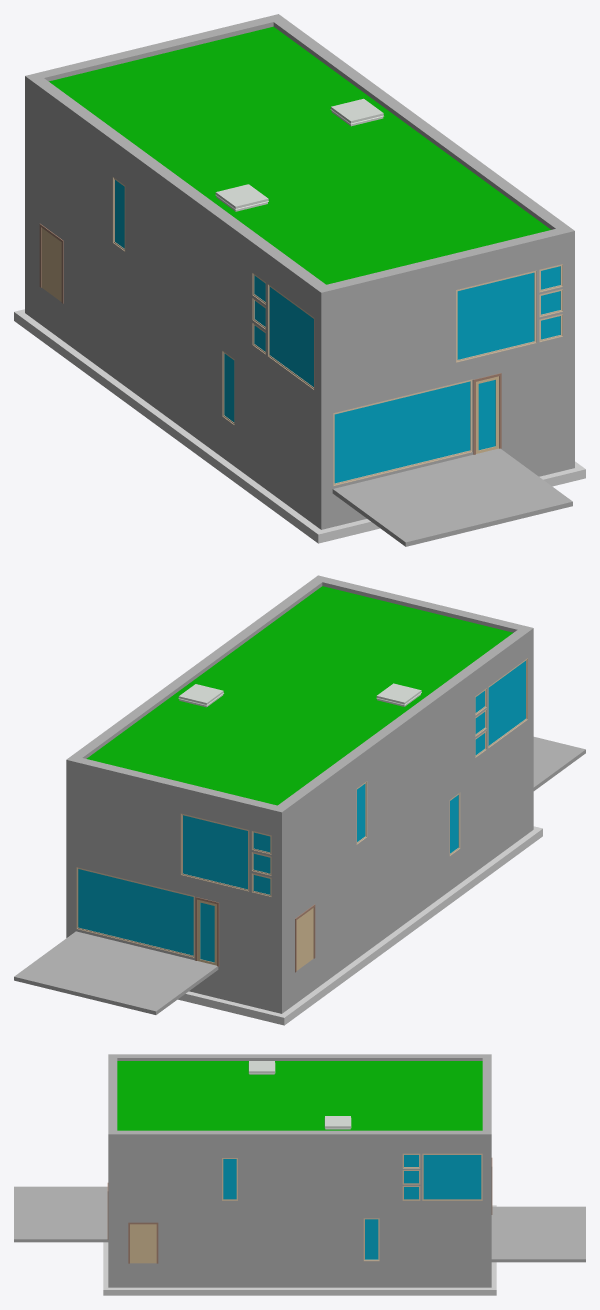
The model's file is duplex.gltf.
3 renders of one model, top to bottom at view 1: azimuth 30°, elevation 25°; view 2: azimuth 150°, elevation 25°; view 3: azimuth 270°, elevation 25°, orthographic. The views are drawn at different scales.
Parts seen in each view (by area): view 1: product-ddaca082-9edd-4829-a689-a1a58a1761d2-body, product-9808fd7f-dc48-478e-9217-628e833d7af9-body, product-9808fd7f-dc48-478e-9217-628e833d5659-body, product-9808fd7f-dc48-478e-9217-628e833d5611-body, product-4c8d2570-3244-4e75-8237-a4372a40e878-body, product-9808fd7f-dc48-478e-9217-628e833d7d42-body, product-9808fd7f-dc48-478e-9217-628e833d4385-body, product-6b61ce71-1a7a-473c-8f87-4262e0bdb2de-body, product-2da40d62-4698-436c-a2c3-95c49bb70d41-body, product-2da40d62-4698-436c-a2c3-95c49bb70ca4-body, product-6b61ce71-1a7a-473c-8f87-4262e0bdcfa0-body, product-2da40d62-4698-436c-a2c3-95c49bb70cfa-body (+12 smaller); view 2: product-ddaca082-9edd-4829-a689-a1a58a1761d2-body, product-9808fd7f-dc48-478e-9217-628e833d7af9-body, product-9808fd7f-dc48-478e-9217-628e833d5659-body, product-9808fd7f-dc48-478e-9217-628e833d568d-body, product-4c8d2570-3244-4e75-8237-a4372a40e82b-body, product-9808fd7f-dc48-478e-9217-628e833d7df1-body, product-9808fd7f-dc48-478e-9217-628e833d4385-body, product-6b61ce71-1a7a-473c-8f87-4262e0bdb1c2-body, product-2da40d62-4698-436c-a2c3-95c49bb70d41-body, product-2da40d62-4698-436c-a2c3-95c49bb70c3c-body, product-6b61ce71-1a7a-473c-8f87-4262e0bdc858-body, product-2e3c415a-d885-4964-a589-bb0941bdd177-body (+12 smaller); view 3: product-ddaca082-9edd-4829-a689-a1a58a1761d2-body, product-9808fd7f-dc48-478e-9217-628e833d7d12-body, product-9808fd7f-dc48-478e-9217-628e833d56c9-body, product-9808fd7f-dc48-478e-9217-628e833d4257-body, product-2da40d62-4698-436c-a2c3-95c49bb70cfa-body, product-4c8d2570-3244-4e75-8237-a4372a40e82b-body, product-4c8d2570-3244-4e75-8237-a4372a40e878-body, product-2e3c415a-d885-4964-a589-bb0941bdd167-body, product-6f010293-ddb7-4fe4-8ffd-c144d8444cde-body, product-2da40d62-4698-436c-a2c3-95c49bb70d41-body, product-6b61ce71-1a7a-473c-8f87-4262e0bdb41a-body, product-2da40d62-4698-436c-a2c3-95c49bb70c3c-body (+6 smaller).
Boxes of the visible parts, x1=… form: product-ddaca082-9edd-4829-a689-a1a58a1761d2-body: x1=49, y1=26, x2=550, y2=284; product-9808fd7f-dc48-478e-9217-628e833d7af9-body: x1=32, y1=187, x2=314, y2=486; product-9808fd7f-dc48-478e-9217-628e833d5659-body: x1=25, y1=94, x2=321, y2=398; product-9808fd7f-dc48-478e-9217-628e833d5611-body: x1=321, y1=249, x2=574, y2=398; product-4c8d2570-3244-4e75-8237-a4372a40e878-body: x1=332, y1=448, x2=572, y2=546; product-9808fd7f-dc48-478e-9217-628e833d7d42-body: x1=314, y1=340, x2=562, y2=491; product-9808fd7f-dc48-478e-9217-628e833d4385-body: x1=32, y1=281, x2=314, y2=524; product-6b61ce71-1a7a-473c-8f87-4262e0bdb2de-body: x1=333, y1=379, x2=472, y2=486; product-2da40d62-4698-436c-a2c3-95c49bb70d41-body: x1=32, y1=78, x2=325, y2=305; product-2da40d62-4698-436c-a2c3-95c49bb70ca4-body: x1=314, y1=229, x2=562, y2=310; product-6b61ce71-1a7a-473c-8f87-4262e0bdcfa0-body: x1=456, y1=270, x2=536, y2=362; product-2da40d62-4698-436c-a2c3-95c49bb70cfa-body: x1=273, y1=19, x2=574, y2=251; product-ddaca082-9edd-4829-a689-a1a58a1761d2-body: x1=86, y1=586, x2=513, y2=805; product-9808fd7f-dc48-478e-9217-628e833d7af9-body: x1=287, y1=722, x2=527, y2=977; product-9808fd7f-dc48-478e-9217-628e833d5659-body: x1=282, y1=644, x2=533, y2=901; product-9808fd7f-dc48-478e-9217-628e833d568d-body: x1=66, y1=775, x2=281, y2=902; product-4c8d2570-3244-4e75-8237-a4372a40e82b-body: x1=14, y1=931, x2=218, y2=1014; product-9808fd7f-dc48-478e-9217-628e833d7df1-body: x1=66, y1=850, x2=287, y2=981; product-9808fd7f-dc48-478e-9217-628e833d4385-body: x1=287, y1=802, x2=527, y2=1009; product-6b61ce71-1a7a-473c-8f87-4262e0bdb1c2-body: x1=76, y1=867, x2=194, y2=957; product-2da40d62-4698-436c-a2c3-95c49bb70d41-body: x1=278, y1=630, x2=527, y2=823; product-2da40d62-4698-436c-a2c3-95c49bb70c3c-body: x1=66, y1=755, x2=287, y2=827; product-6b61ce71-1a7a-473c-8f87-4262e0bdc858-body: x1=180, y1=813, x2=249, y2=891; product-2e3c415a-d885-4964-a589-bb0941bdd177-body: x1=262, y1=836, x2=530, y2=1025; product-ddaca082-9edd-4829-a689-a1a58a1761d2-body: x1=117, y1=1061, x2=482, y2=1130; product-9808fd7f-dc48-478e-9217-628e833d7d12-body: x1=108, y1=1202, x2=482, y2=1263; product-9808fd7f-dc48-478e-9217-628e833d56c9-body: x1=108, y1=1146, x2=491, y2=1202; product-9808fd7f-dc48-478e-9217-628e833d4257-body: x1=108, y1=1263, x2=482, y2=1287; product-2da40d62-4698-436c-a2c3-95c49bb70cfa-body: x1=108, y1=1130, x2=482, y2=1146; product-4c8d2570-3244-4e75-8237-a4372a40e82b-body: x1=491, y1=1206, x2=585, y2=1262; product-4c8d2570-3244-4e75-8237-a4372a40e878-body: x1=14, y1=1186, x2=108, y2=1242; product-2e3c415a-d885-4964-a589-bb0941bdd167-body: x1=103, y1=1281, x2=496, y2=1295; product-6f010293-ddb7-4fe4-8ffd-c144d8444cde-body: x1=422, y1=1153, x2=482, y2=1200; product-2da40d62-4698-436c-a2c3-95c49bb70d41-body: x1=117, y1=1054, x2=482, y2=1060; product-6b61ce71-1a7a-473c-8f87-4262e0bdb41a-body: x1=128, y1=1222, x2=158, y2=1263; product-2da40d62-4698-436c-a2c3-95c49bb70c3c-body: x1=482, y1=1054, x2=491, y2=1146.
Bounding box in the file's own units: 9.28 × 8.18 × 26.57.
